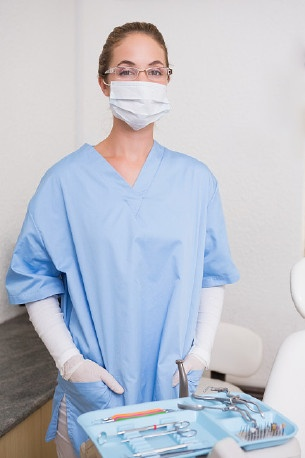Mask: (102, 49, 181, 128)
